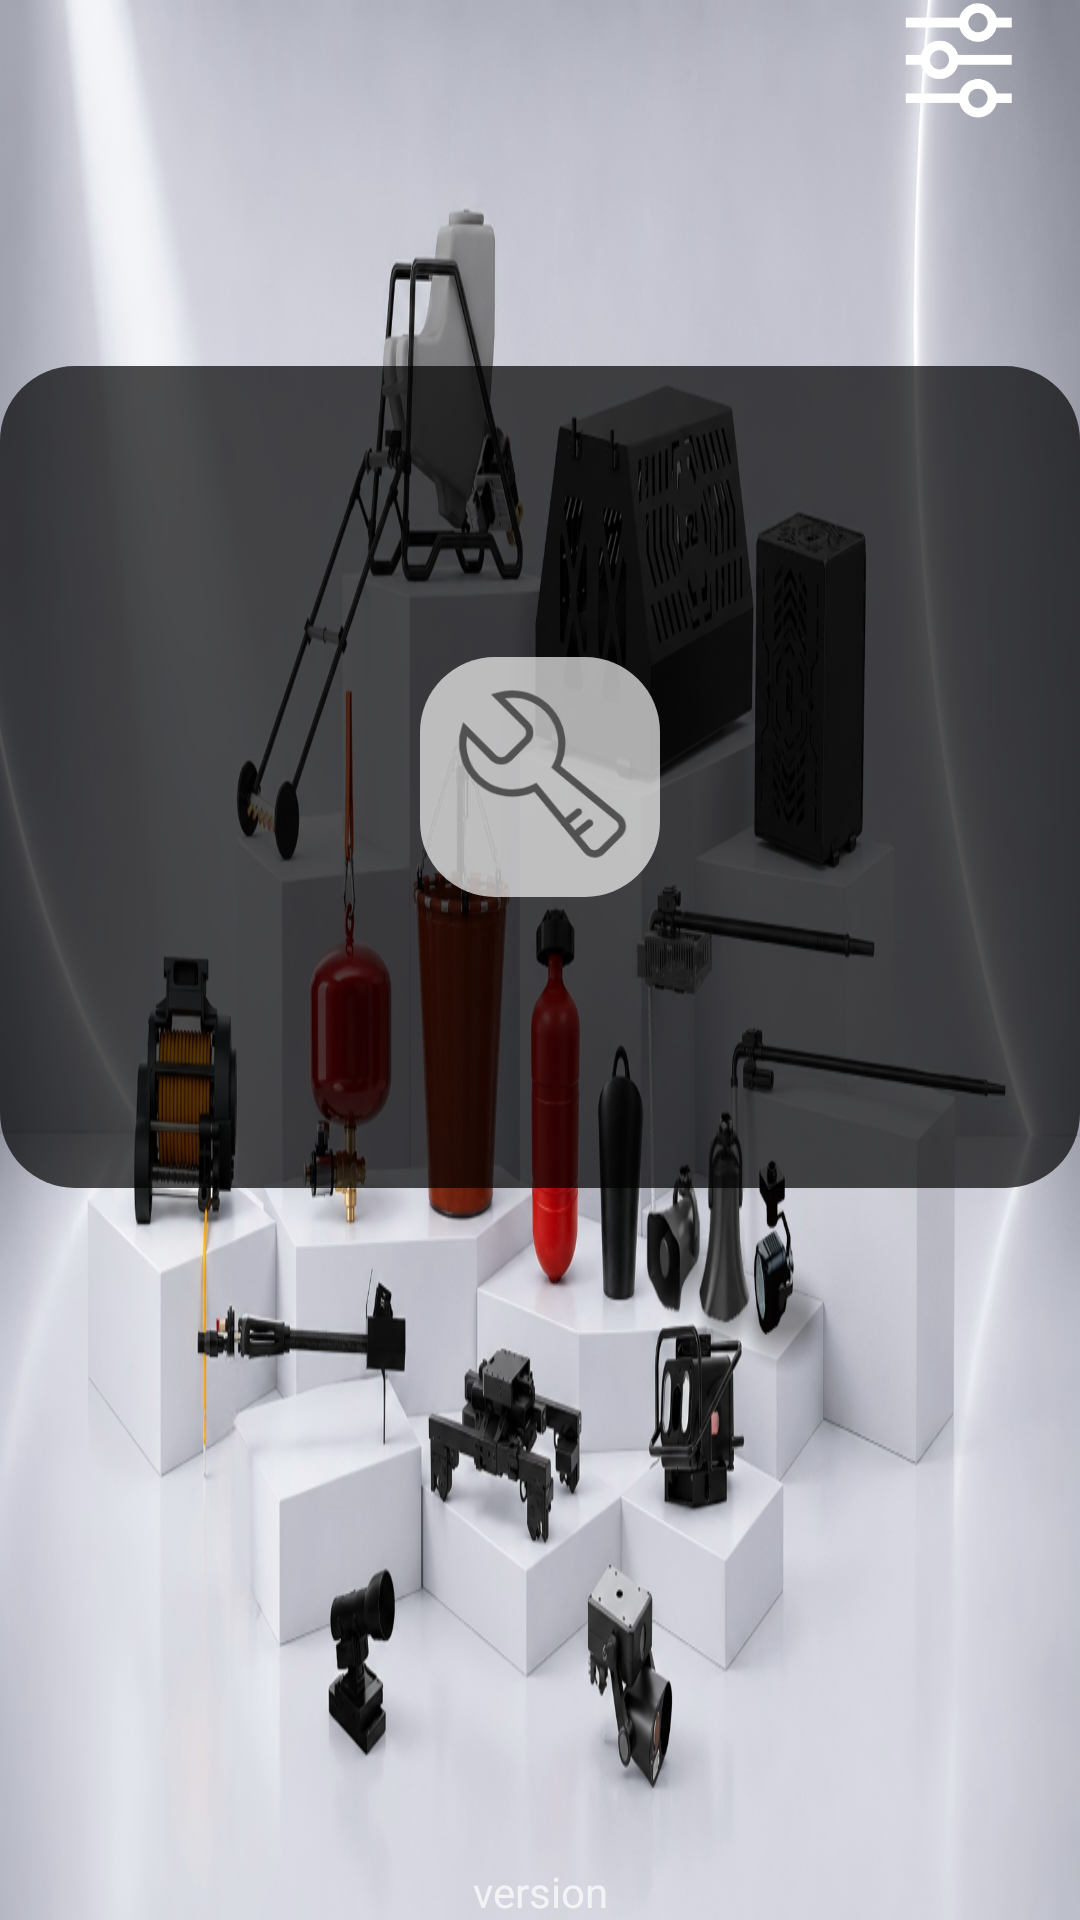

Icon click points for this 1080×1920 phone screenshot, format (x=x, y=y):
setting: (x=993, y=60)
